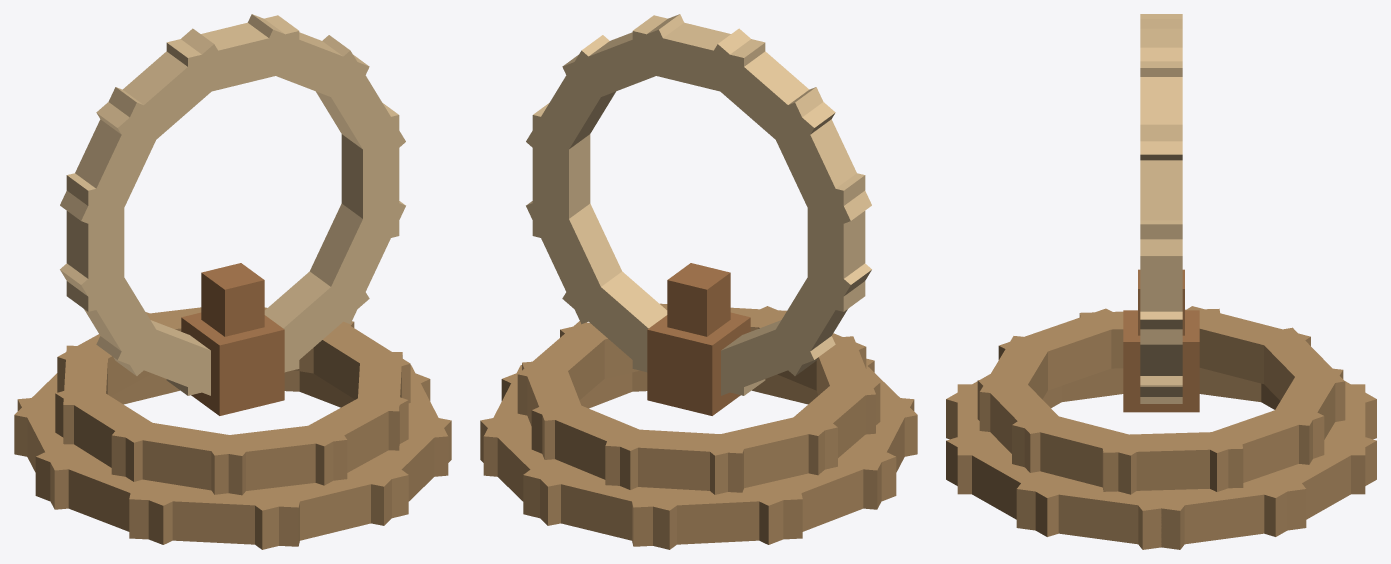
File: lasso.glb
The picture shows the model from 3 angles, left to right: view 1: azimuth 30°, elevation 25°; view 2: azimuth 150°, elevation 25°; view 3: azimuth 270°, elevation 25°; orthographic projection.
Visible parts, largest first — view 1: lasso; view 2: lasso; view 3: lasso.
Part boxes in pixels (box(x1,y1,x2,y2)): lasso: box(14, 14, 451, 549); lasso: box(480, 14, 917, 549); lasso: box(946, 14, 1376, 549).
Bounding box in the file's own units: 0.5 × 0.5447 × 0.5.
